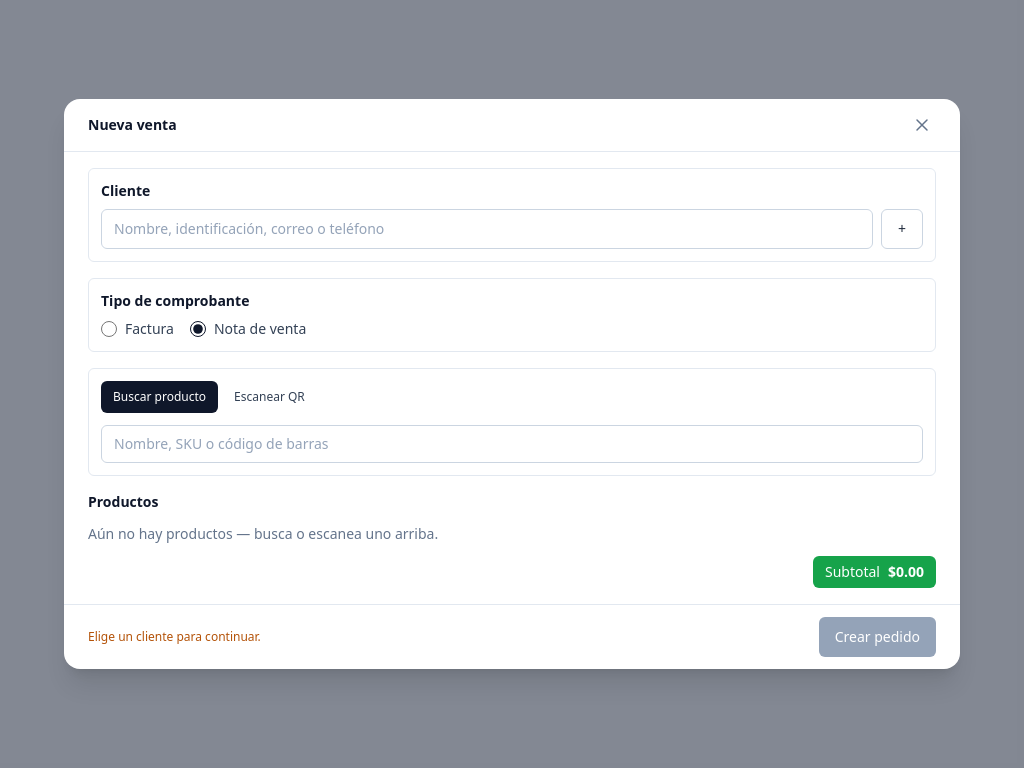
Test case: ProductCartModal › dims a zero-stock variant and disables its "Agregar" button — it cannot be selected
Type "Shirt" into the search field named "buscar producto". click: (512, 444)
box: top-left (101, 425), bottom-right (923, 463)
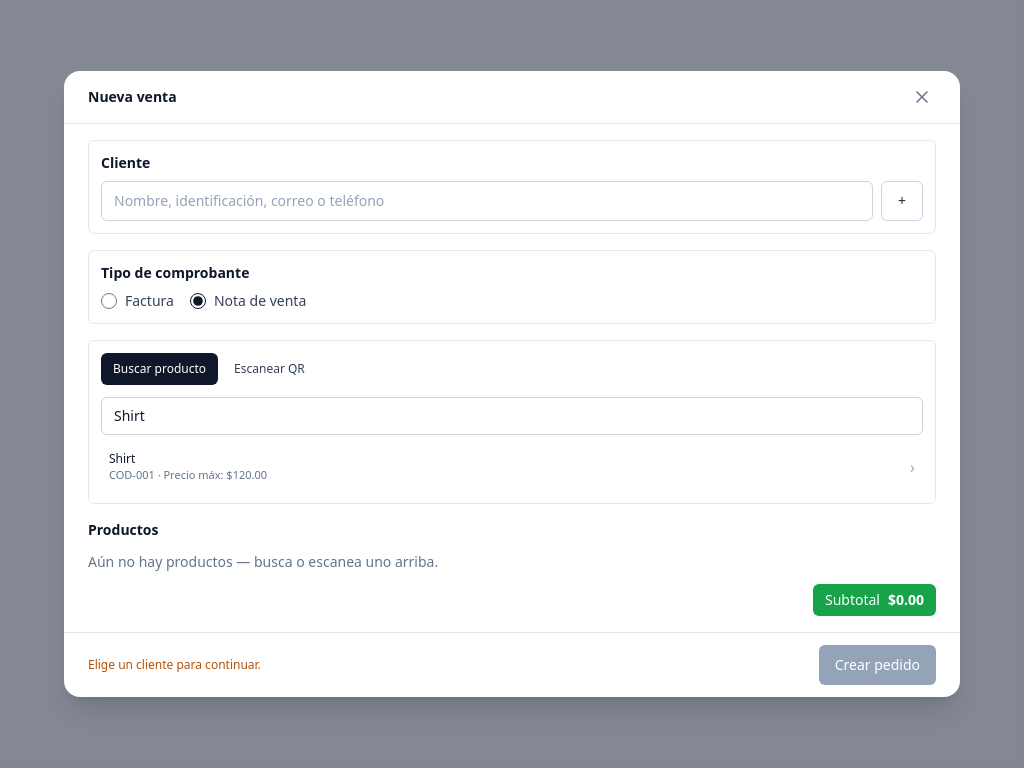
Now the text "Shirt" is shown, box top-left (109, 450), bottom-right (135, 467)
Click the button "Shirt COD-001 · Precio máx: $120.00 ›". click: click(132, 474)
box: top-left (101, 443), bottom-right (923, 491)
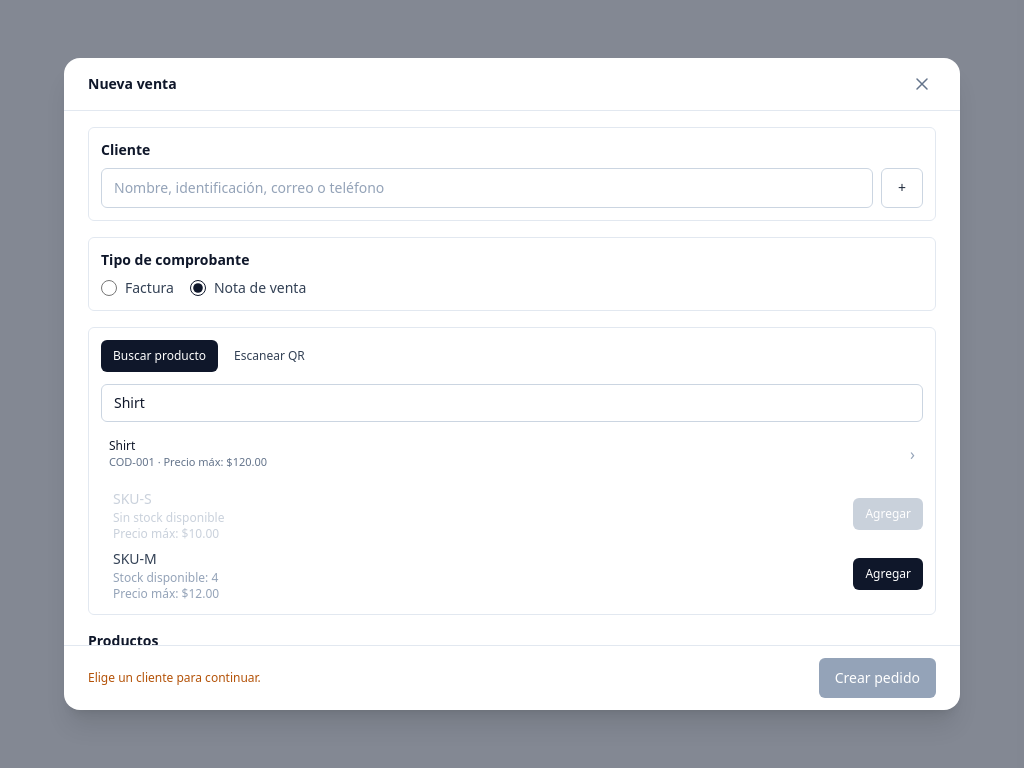
Now the text "SKU-M" is shown, box top-left (113, 549), bottom-right (157, 568)
Now the text "Sin stock disponible" is shown, box top-left (113, 510), bottom-right (224, 526)
Now the button "Agregar" in the row of "SKU-S" is disabled, box top-left (853, 498), bottom-right (923, 530)
